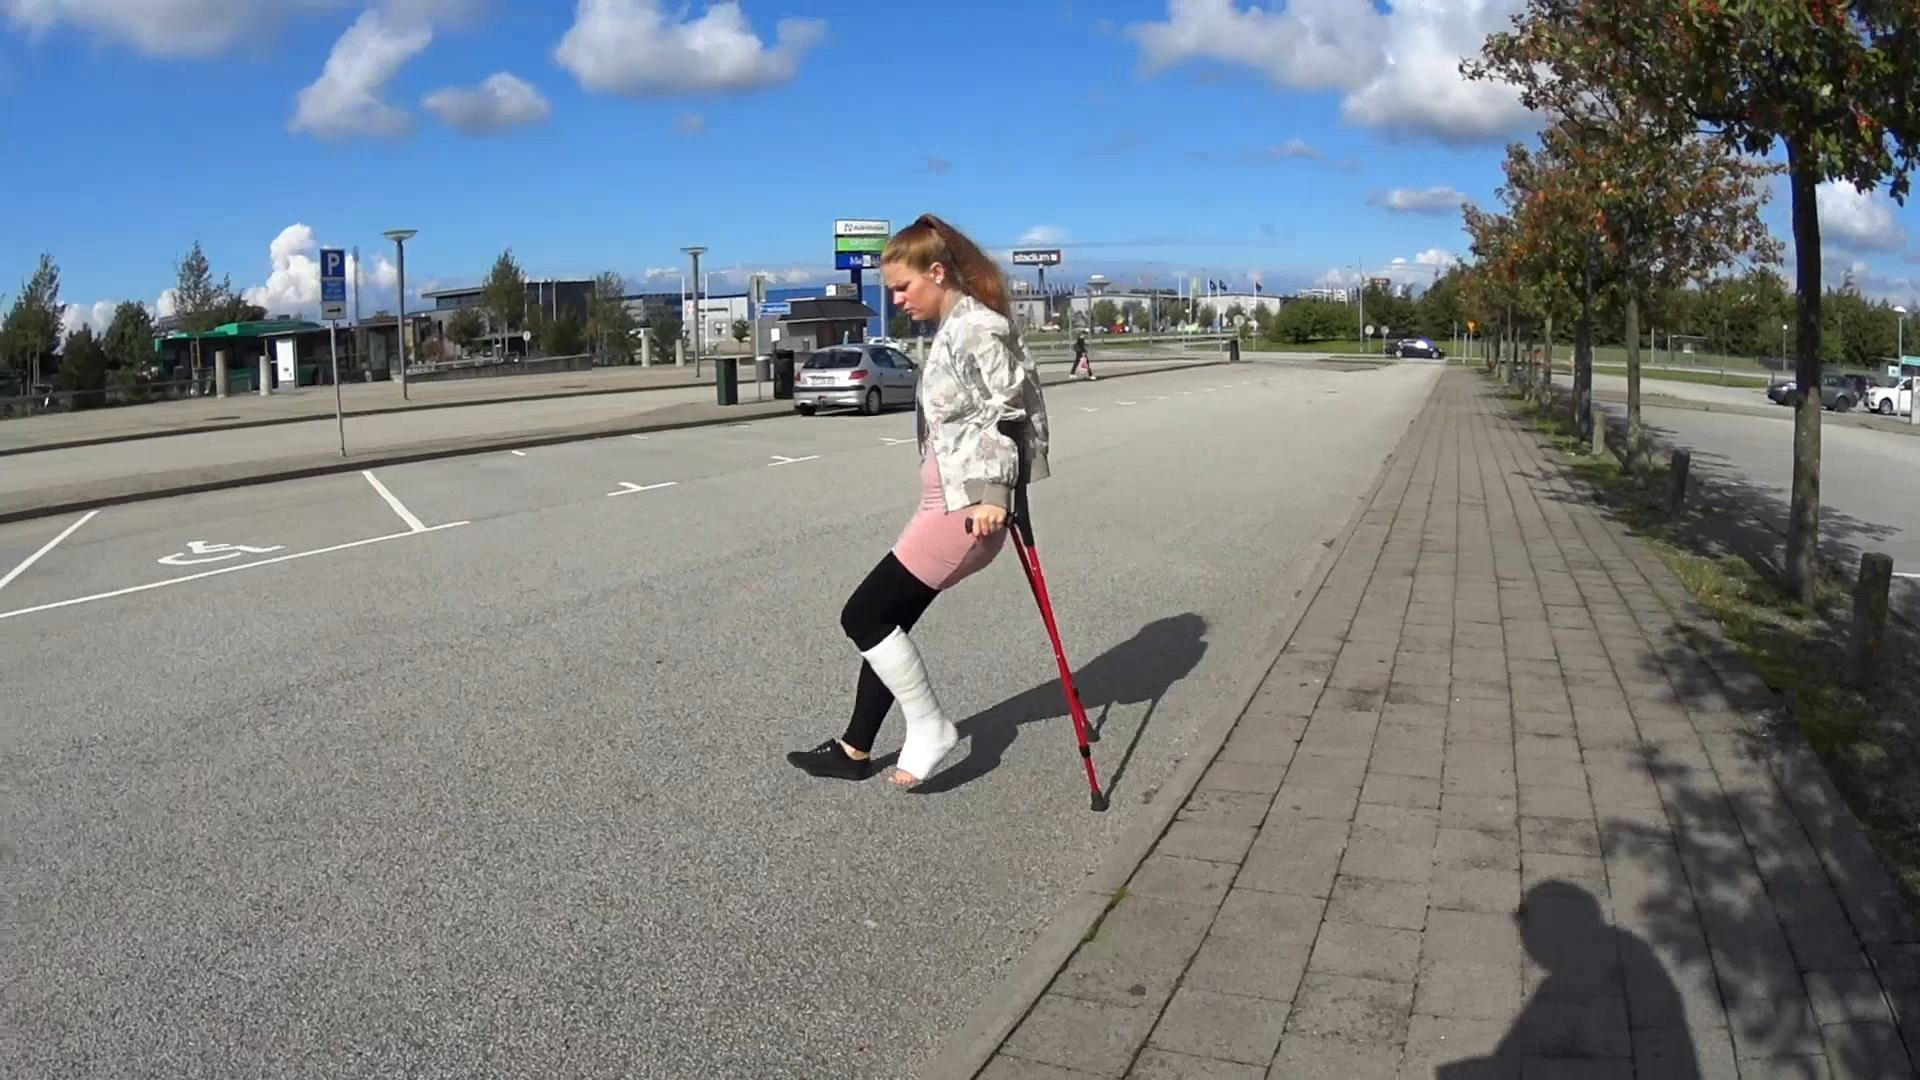crutches: (786, 211, 1110, 816)
